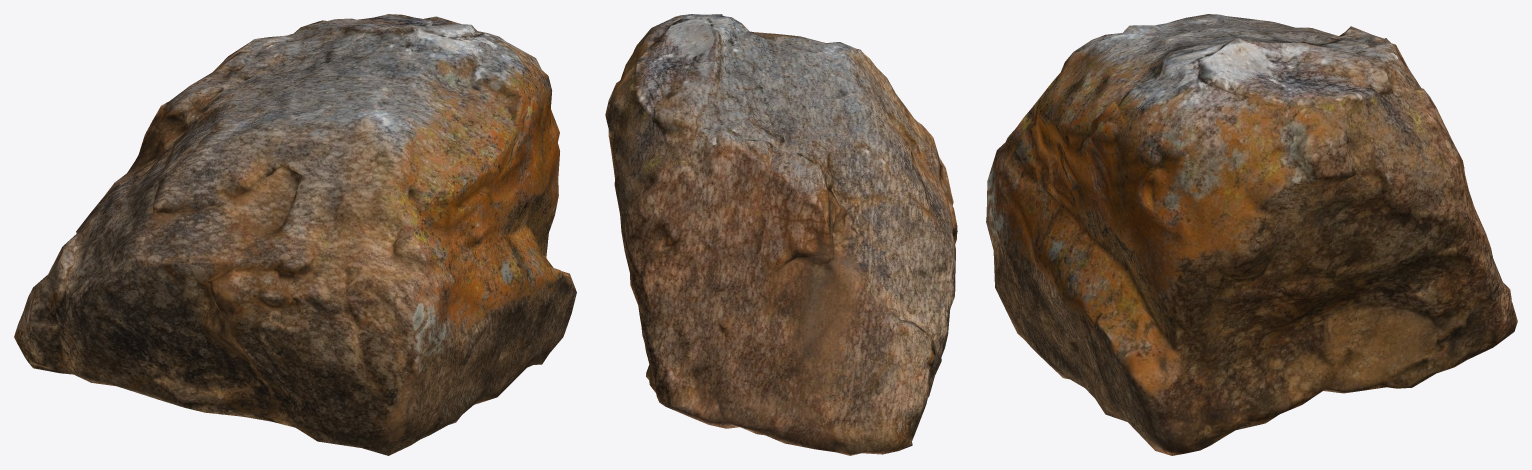
The model's file is node_stone_2.glb.
3 renders of one model, left to right at view 1: azimuth 30°, elevation 25°; view 2: azimuth 150°, elevation 25°; view 3: azimuth 270°, elevation 25°, orthographic. The views are drawn at different scales.
Parts seen in each view (by area): view 1: boulder_04; view 2: boulder_04; view 3: boulder_04.
Part boxes in pixels (x1=…): boulder_04: x1=14, y1=14, x2=576, y2=455; boulder_04: x1=605, y1=14, x2=957, y2=455; boulder_04: x1=986, y1=14, x2=1517, y2=455.
Bounding box in the file's own units: 1.73 × 1.3 × 1.71.
Materials: 1 (1 with a texture image).
